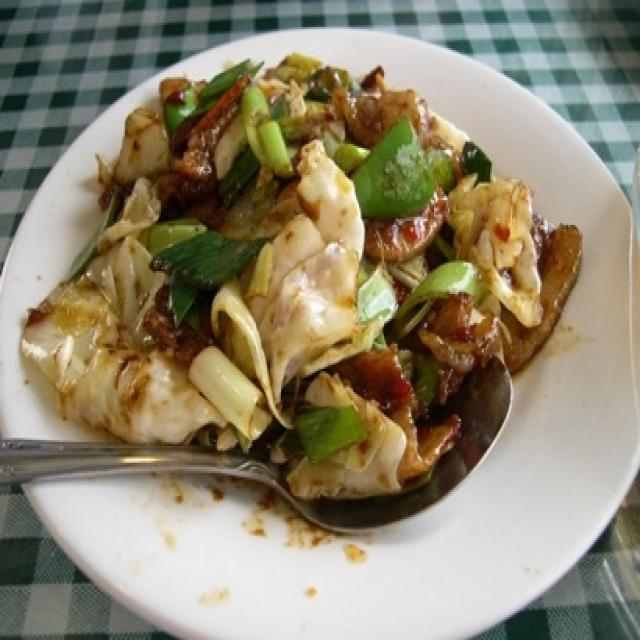猪肉菜式: (19, 33, 599, 580)
